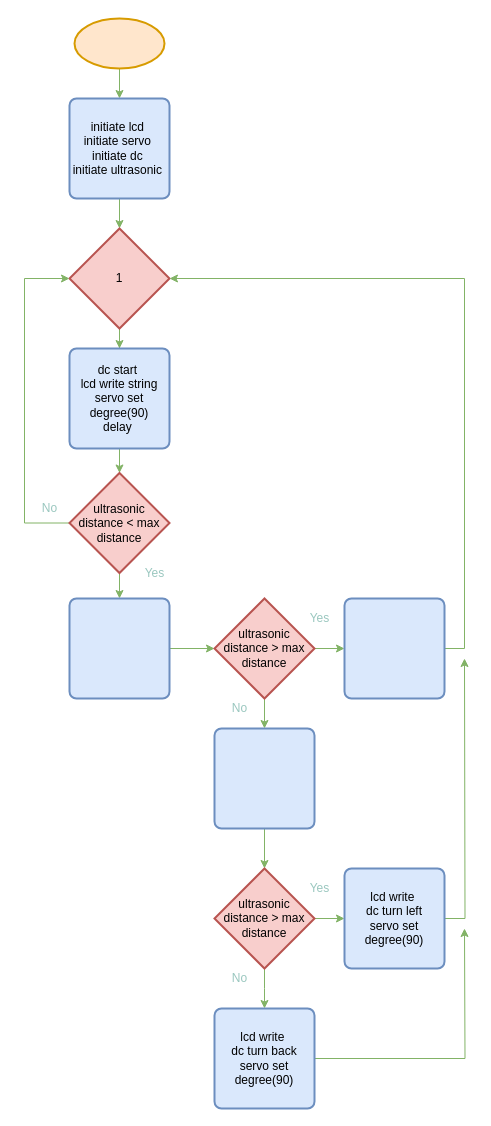
Some shapes in this 491 by 1126 pixel diagram are drawn without their labels. The box of each missing label's shape, as (x1, y1, x2, y2) in pixels:
dc motor stop servo set degree(0) //look right: (68, 597, 170, 699)
lcd write dc turn right servo set degree(90): (343, 597, 445, 699)
servo set degree (180) //look left: (213, 727, 315, 829)
start: (73, 17, 165, 69)
